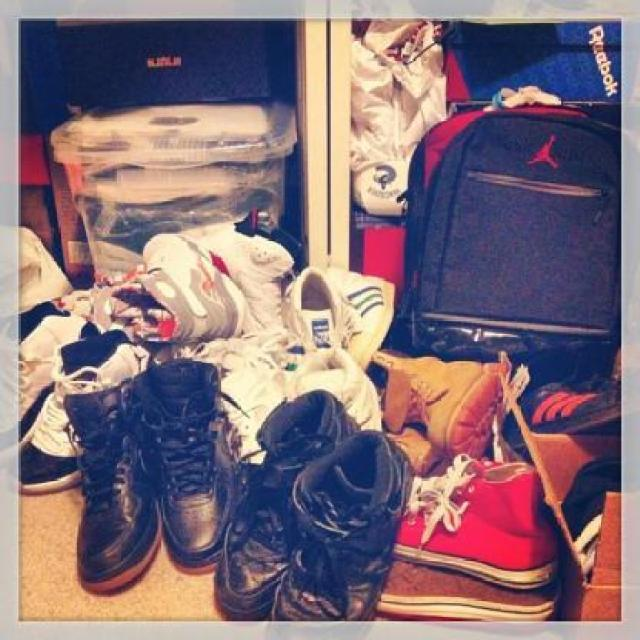backpack: (404, 85, 622, 366)
